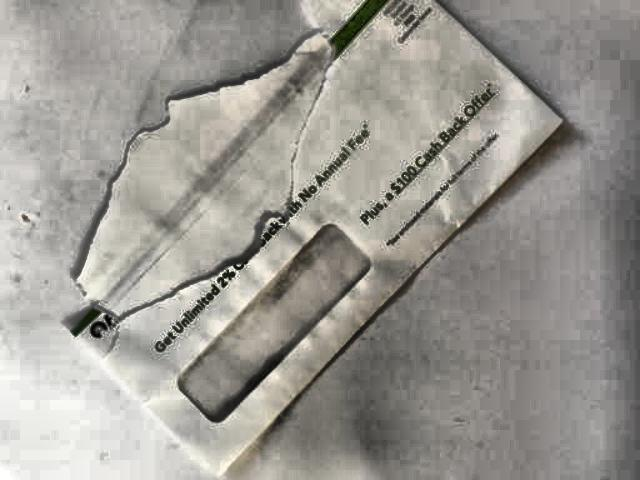Paper: (15, 5, 605, 471)
